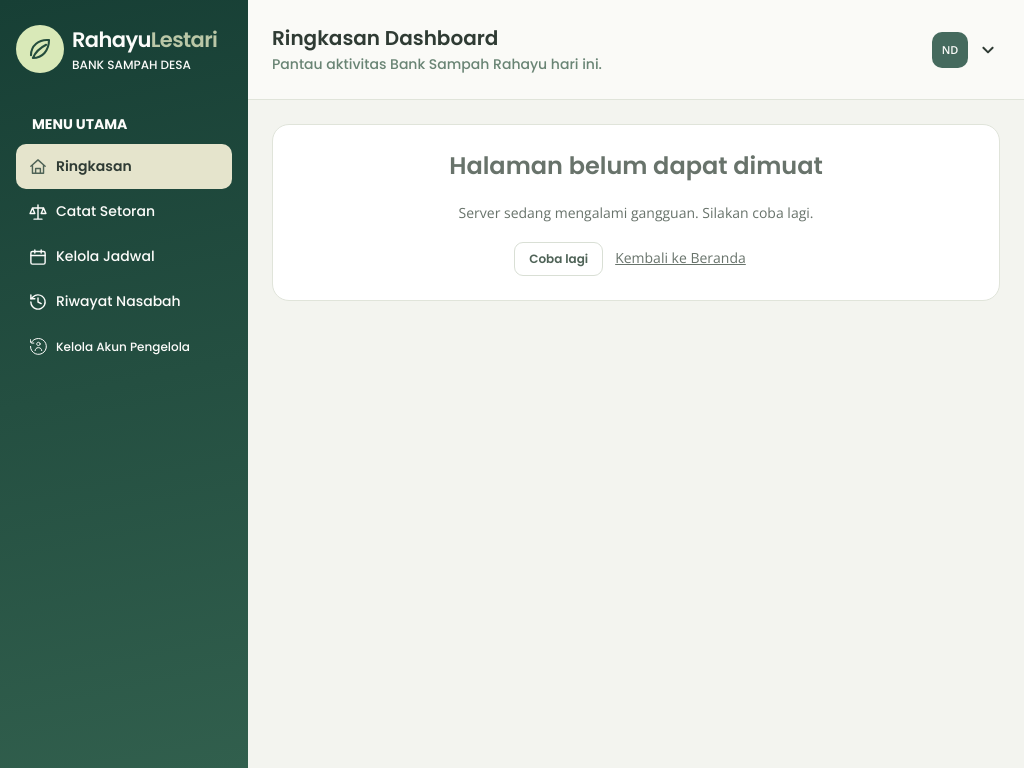
Test: shared pengelola dashboard › summary errors retain layout, never render zeros, and retry only failed data
This screenshot has width=1024, height=768.
Expected: the message shows "Server sedang mengalami gangguan", [458, 203, 814, 222]
Expected: the navigation bar is shown, [16, 114, 232, 369]
Click the button "Coba lagi".
click(559, 259)  # box [514, 242, 603, 276]
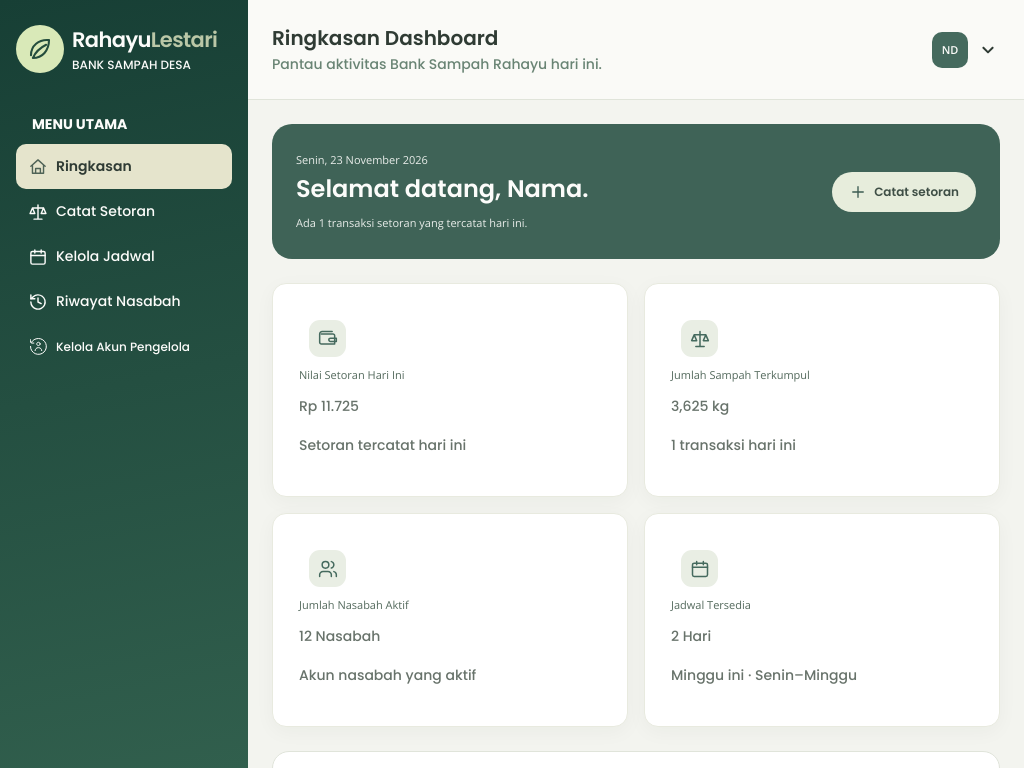
Now the text "12 Nasabah" is shown, box [299, 626, 380, 646]
